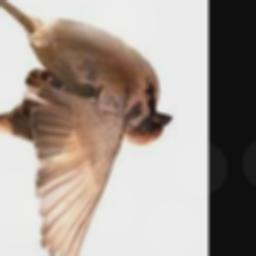Sparrow: (0, 0, 172, 256)
